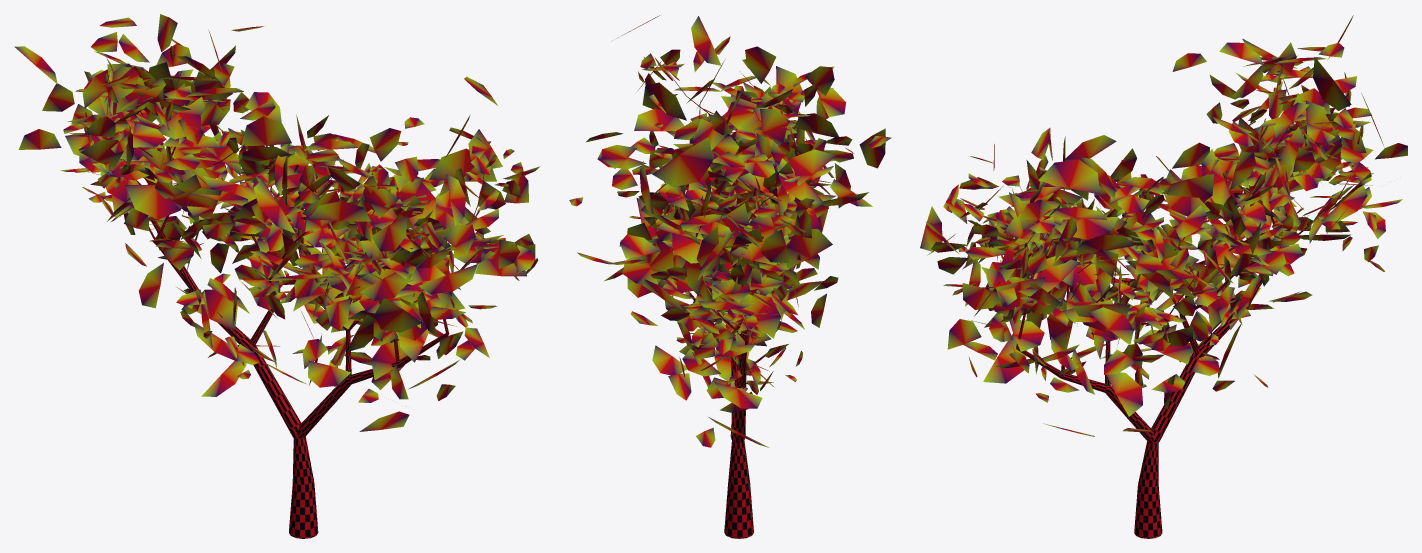
File: aaa.glb
3 renders of one model, left to right at view 1: azimuth 30°, elevation 25°; view 2: azimuth 150°, elevation 25°; view 3: azimuth 270°, elevation 25°, orthographic. The views are drawn at different scales.
Parts seen in each view (by area): view 1: leaves, batch; view 2: leaves, batch; view 3: leaves, batch.
Boxes of the visible parts, x1,y1,x2,y2 form: leaves: [14, 14, 539, 431]; batch: [118, 70, 486, 538]; leaves: [569, 15, 891, 447]; batch: [650, 70, 788, 538]; leaves: [920, 15, 1407, 436]; batch: [992, 79, 1351, 538].
Bounding box in the file's own units: 15.2 × 18.87 × 18.51.
Materials: 2 (1 with a texture image).
